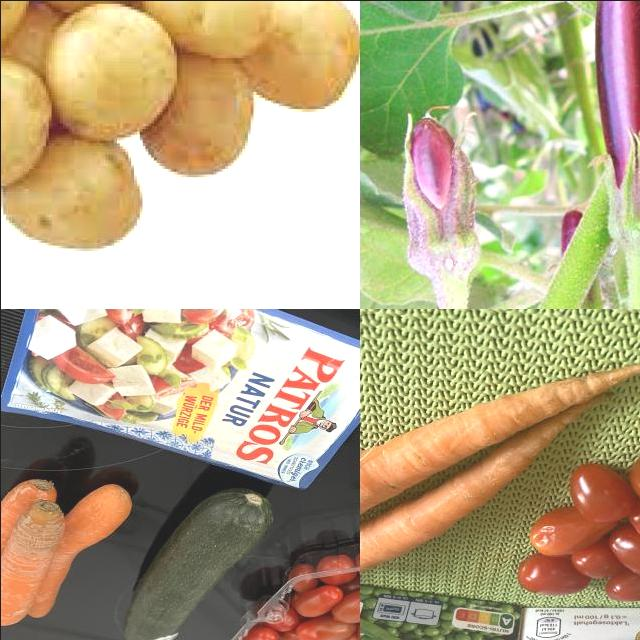carrot: (360, 383, 625, 589), (360, 348, 640, 532), (10, 474, 111, 632), (1, 485, 56, 621)
eggplant: (593, 1, 640, 259), (405, 116, 477, 277)
potato: (52, 9, 182, 137), (2, 137, 136, 247), (142, 56, 256, 174), (241, 1, 360, 111), (139, 1, 273, 59), (1, 56, 52, 187)
tomato: (504, 447, 640, 610), (234, 569, 360, 640)
zucchini: (120, 486, 289, 640)
